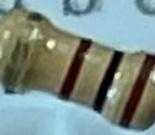Black: (89, 47, 127, 112)
Brown: (116, 51, 155, 129), (57, 35, 93, 102)
Side-Gold: (1, 8, 46, 91)
